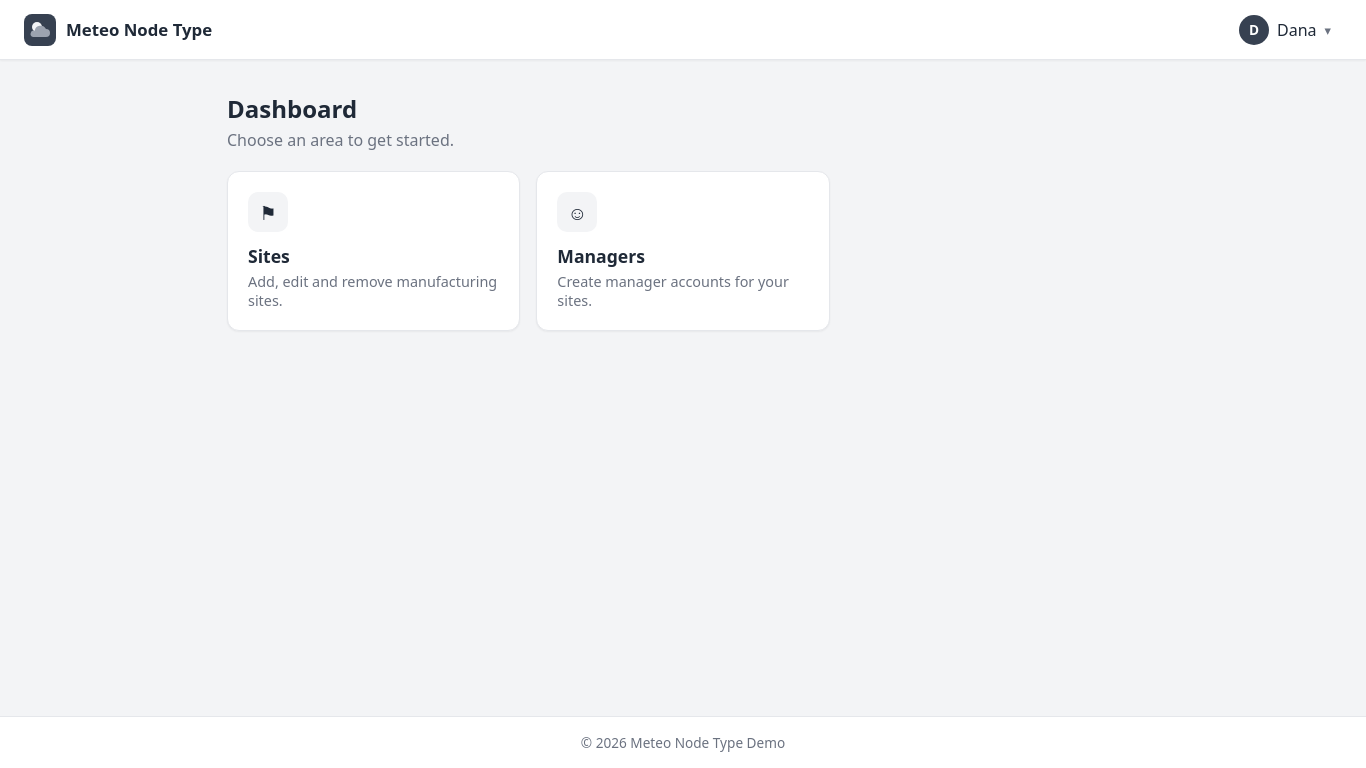
Test: App › opens the Sites page from the dashboard card
The width and height of the screenshot is (1366, 768).
What coordinates should you click on to do the following:
click the link "⚑ Sites Add, edit and remove manufacturing sites."
I would click on:
 (268, 212)
Its box is [227, 171, 520, 331].
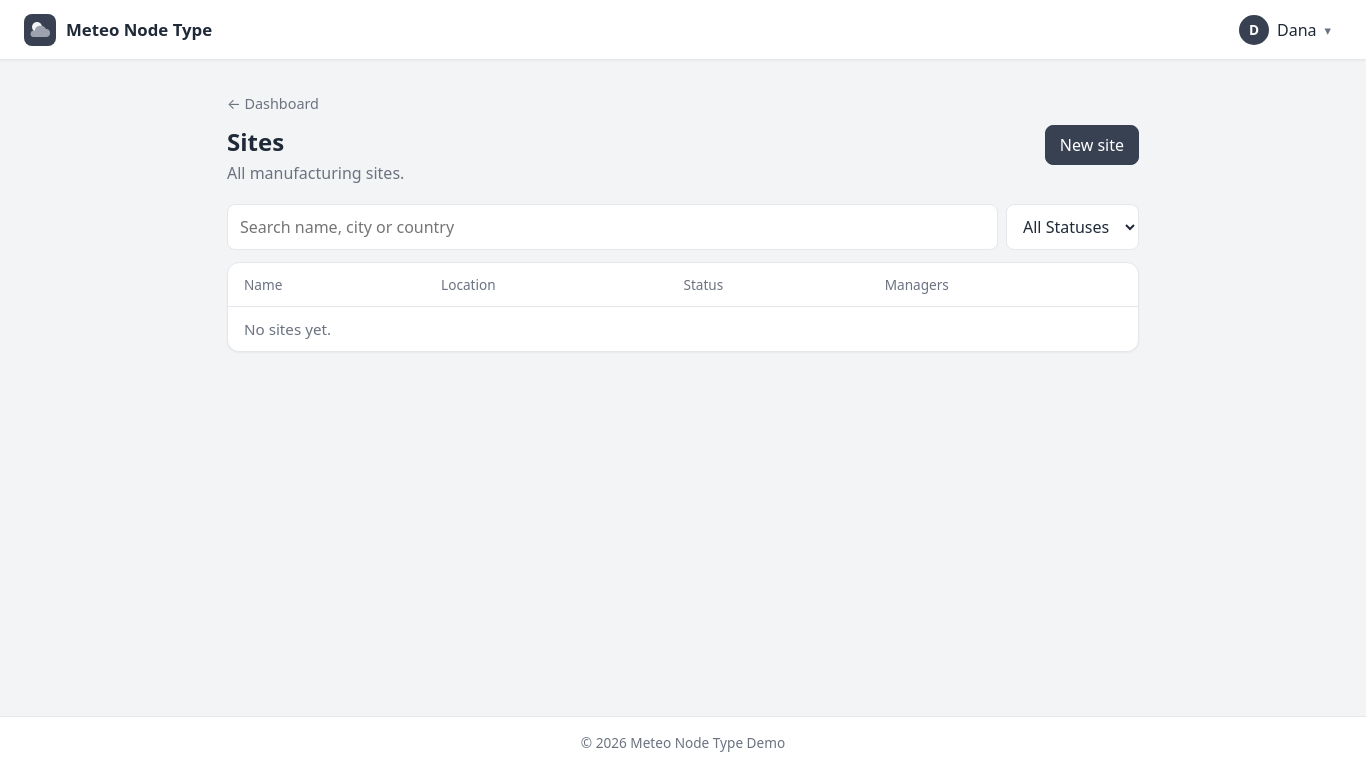
Now the heading "Sites" is shown, box [227, 125, 284, 158]
